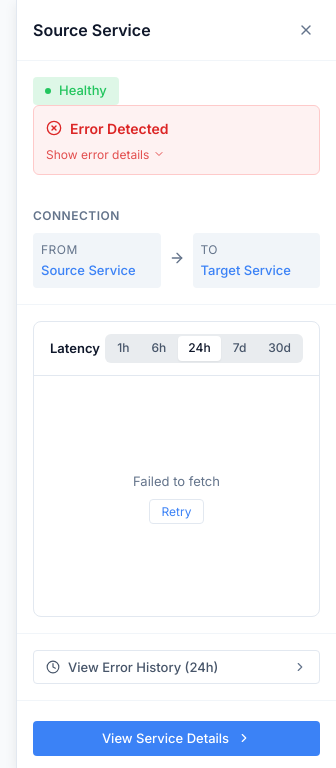
it: EdgeDetailsPanel › displays error as string
The width and height of the screenshot is (336, 768).
Step 1. Click the button "Show error details" → (106, 154), box [46, 146, 165, 162]
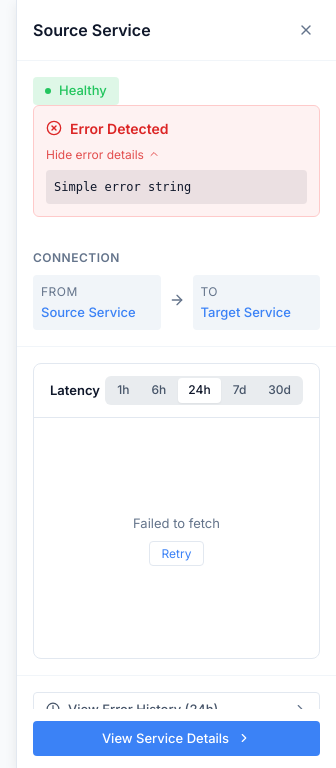
Now the text "Simple error string" is shown, box [46, 170, 307, 204]
